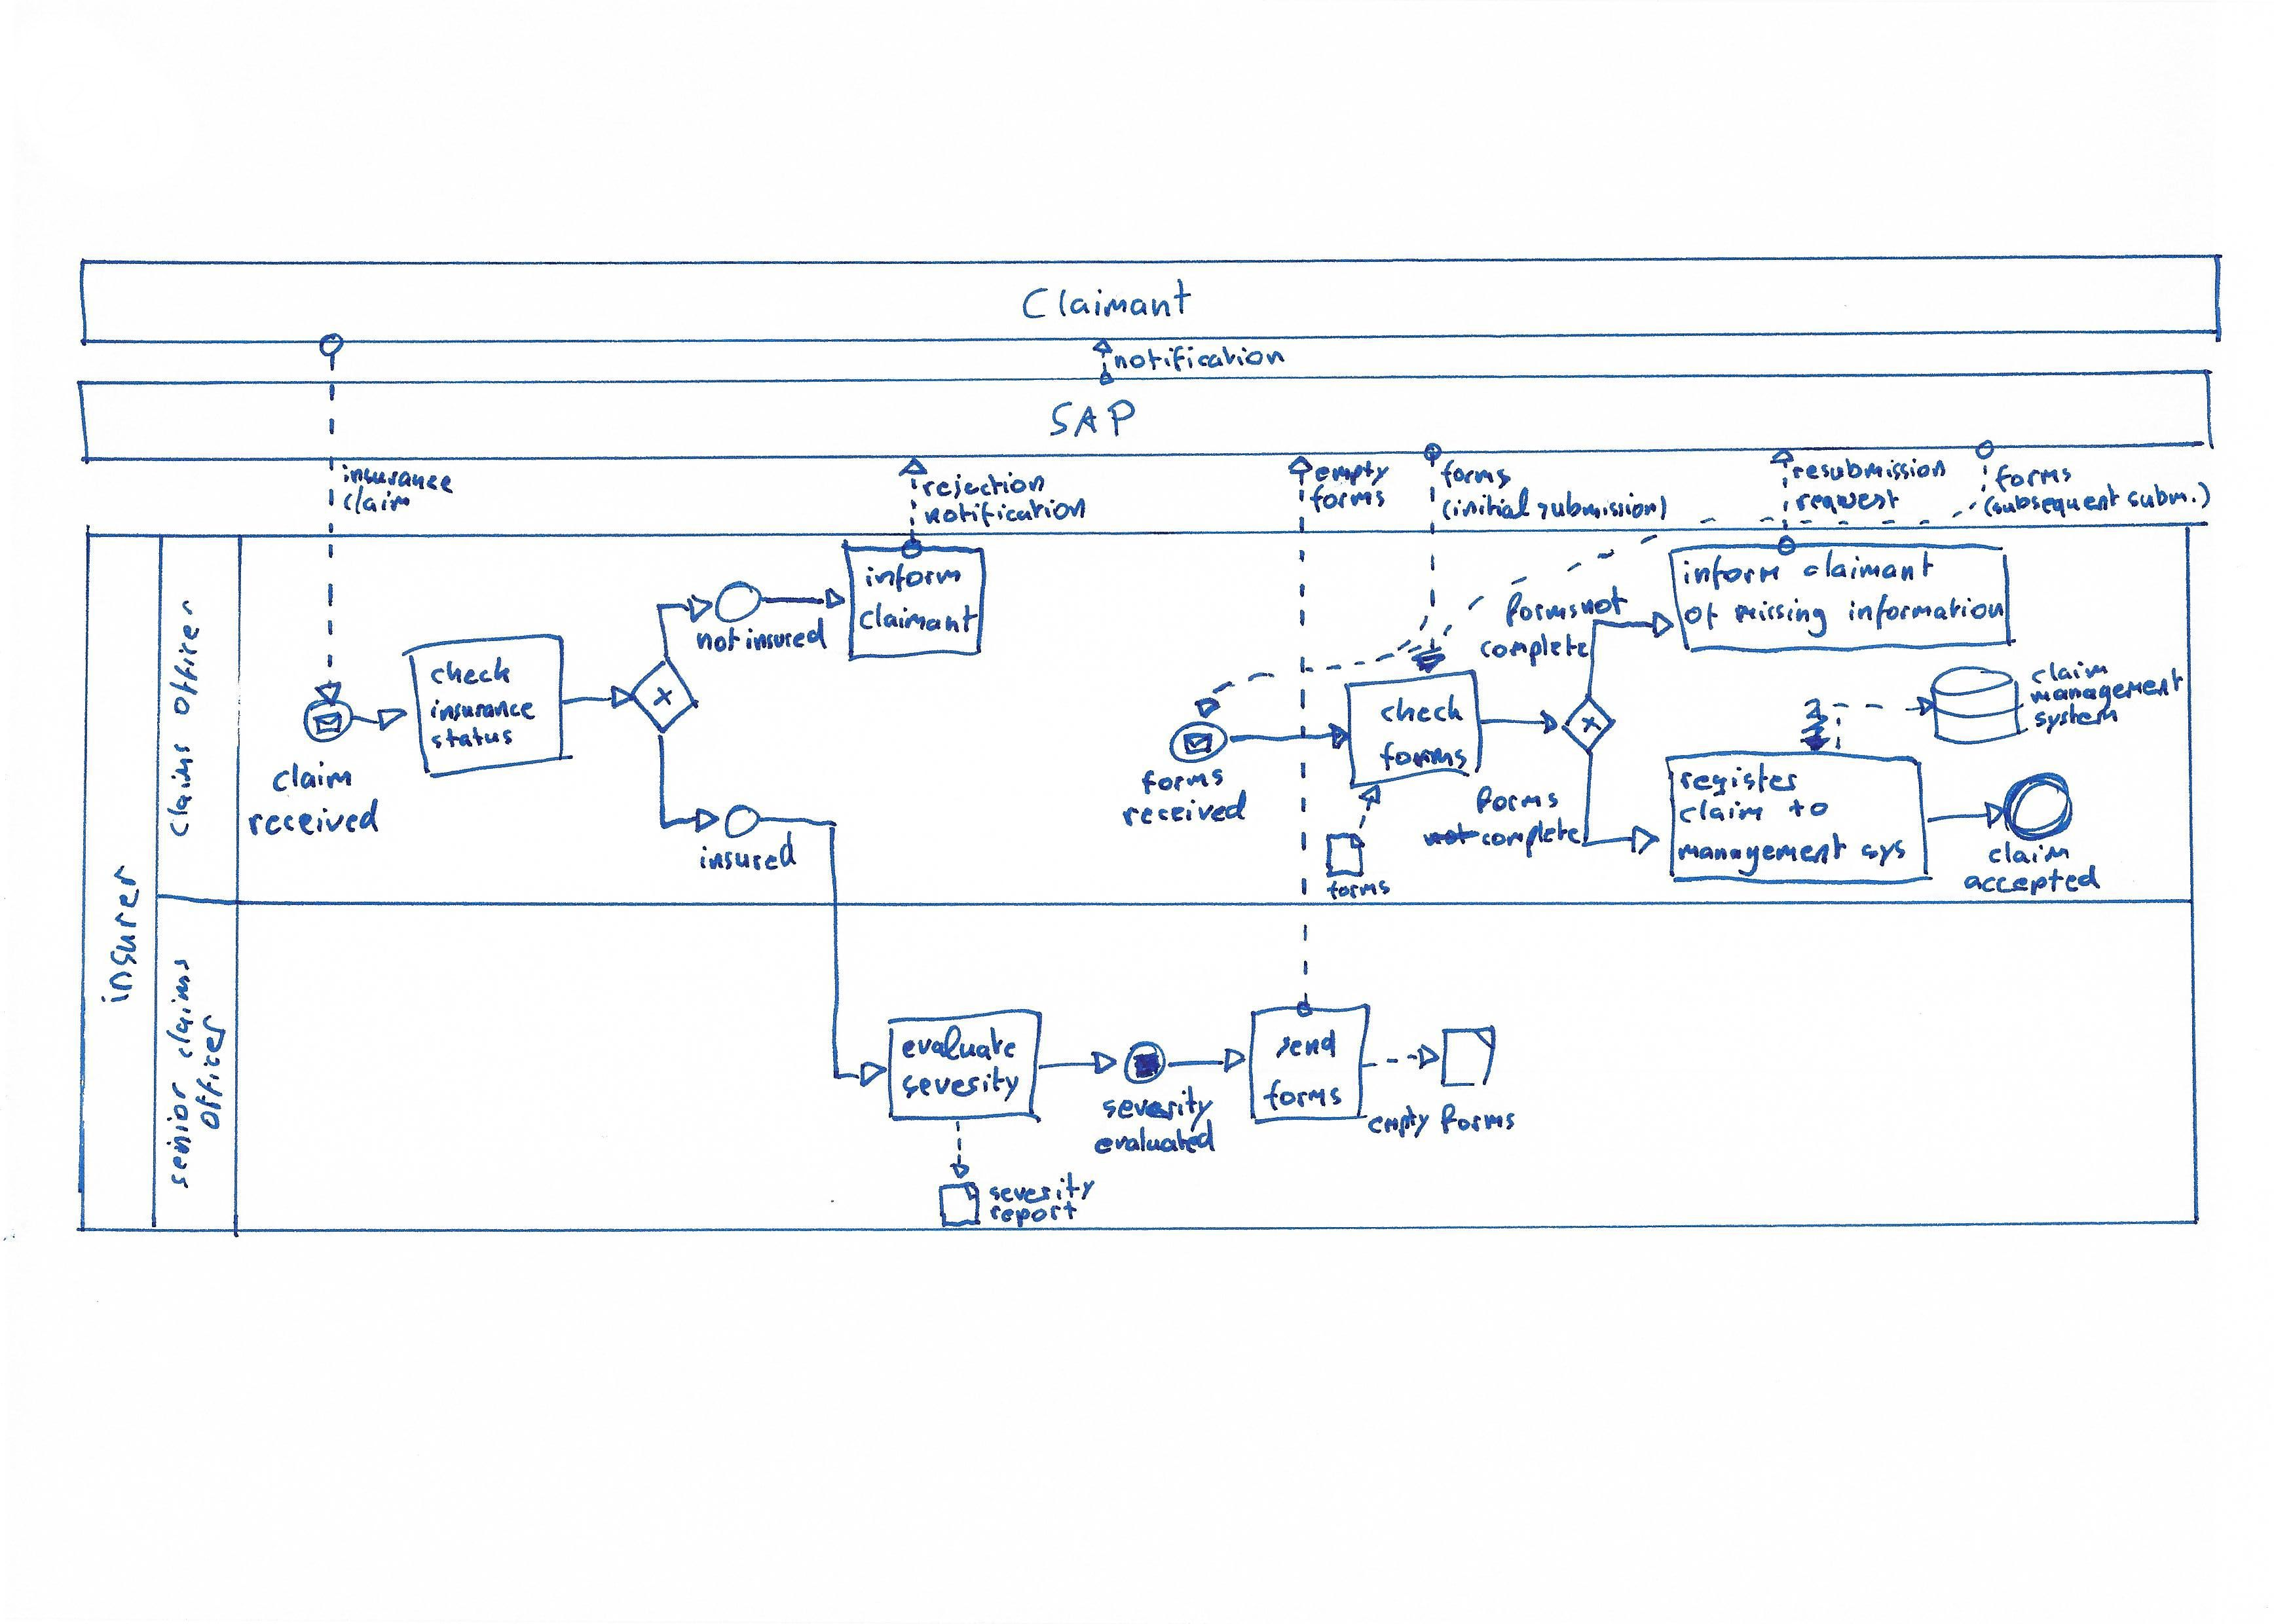(initial: (1445, 494, 1527, 526)
(subsequent: (1989, 487, 2123, 520)
Claimant: (1026, 283, 1191, 325)
Claims: (167, 742, 200, 838)
Forms: (1476, 786, 1562, 816)
Officer: (167, 599, 204, 714)
SAP: (1047, 395, 1139, 441)
System: (2031, 703, 2119, 733)
accepted: (1963, 863, 2104, 896)
check: (1378, 691, 1466, 733), (429, 659, 511, 687)
claim: (271, 763, 358, 796), (1989, 838, 2070, 868), (1678, 798, 1766, 824), (343, 487, 415, 517), (2031, 659, 2109, 685)
claimant: (1801, 550, 1940, 587), (858, 603, 974, 638)
claims: (163, 956, 199, 1062)
complete: (1474, 629, 1590, 666)
completed: (1481, 817, 1582, 852)
empty: (1364, 1106, 1432, 1144), (1313, 460, 1390, 483)
evaluate: (898, 1026, 1021, 1067)
evaluated: (1097, 1118, 1220, 1162)
forms: (1995, 460, 2074, 494), (1306, 485, 1388, 517), (1264, 1079, 1344, 1111), (1141, 766, 1225, 796), (1376, 743, 1471, 770), (1438, 1102, 1515, 1134), (1438, 460, 1515, 490), (1327, 879, 1394, 903)
formsnot: (1503, 584, 1629, 622)
inform: (859, 562, 965, 594), (1678, 555, 1782, 587)
information: (1847, 592, 2003, 627)
insurance: (337, 460, 459, 496), (427, 696, 538, 722)
insured: (696, 840, 803, 877), (745, 619, 826, 654)
insurer: (100, 866, 144, 1012)
management: (1678, 835, 1852, 870), (2035, 680, 2184, 708)
missing: (1734, 594, 1826, 634)
not: (698, 626, 733, 657)
notification: (1109, 341, 1285, 374), (926, 496, 1090, 531)
of: (1685, 599, 1720, 629)
officer: (193, 1016, 228, 1127)
received: (244, 801, 381, 844), (1121, 794, 1253, 831)
register: (1675, 763, 1803, 796)
rejection: (919, 466, 1047, 499)
report: (989, 1200, 1079, 1225)
request: (1796, 489, 1901, 515)
resubmission: (1791, 457, 1947, 485)
send: (1271, 1032, 1339, 1062)
senior: (163, 1083, 195, 1190)
severity: (900, 1067, 1021, 1102), (1104, 1090, 1211, 1125), (988, 1174, 1093, 1206)
status: (429, 724, 513, 752)
subm.): (2125, 483, 2212, 513)
submission): (1534, 490, 1666, 524)
sys: (1863, 835, 1907, 872)
to: (1789, 796, 1829, 826)
